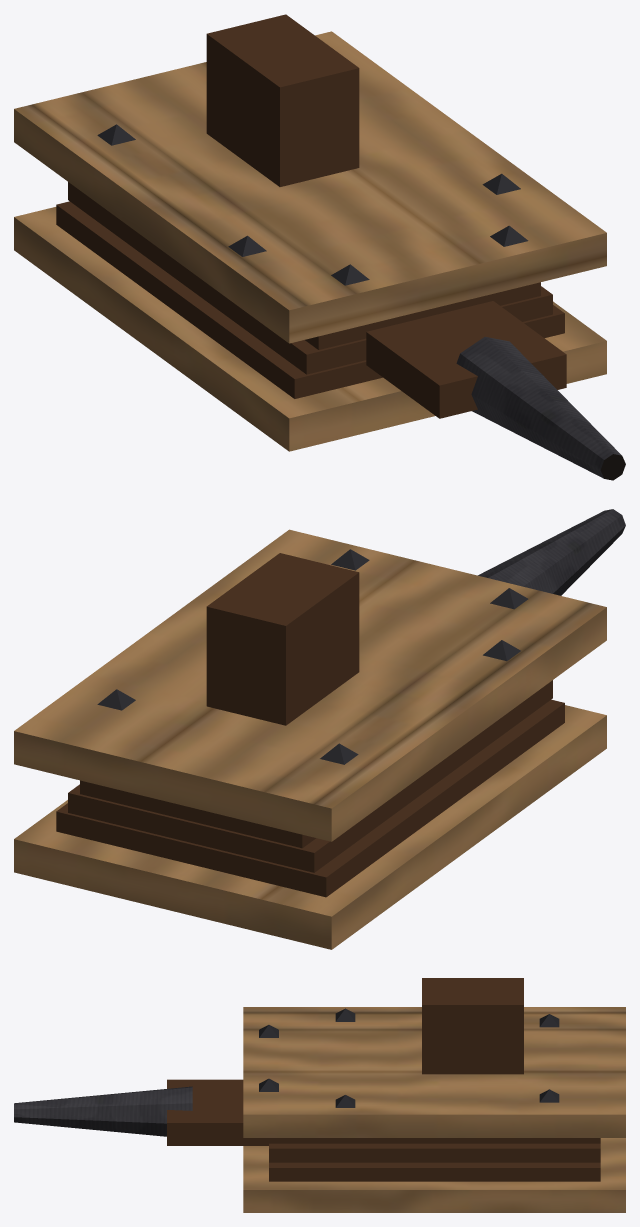
The model's file is prop_blaasbalg.glb.
3 renders of one model, top to bottom at view 1: azimuth 30°, elevation 25°; view 2: azimuth 150°, elevation 25°; view 3: azimuth 270°, elevation 25°, orthographic. The views are drawn at different scales.
Parts seen in each view (by area): view 1: prop_blaasbalg; view 2: prop_blaasbalg; view 3: prop_blaasbalg.
Boxes of the visible parts, x1=… form: prop_blaasbalg: x1=14, y1=14, x2=625, y2=480; prop_blaasbalg: x1=14, y1=509, x2=625, y2=949; prop_blaasbalg: x1=14, y1=978, x2=625, y2=1212.
Bounding box in the file's own units: 0.2 × 0.145 × 0.48.
Materials: 1 (1 with a texture image).
